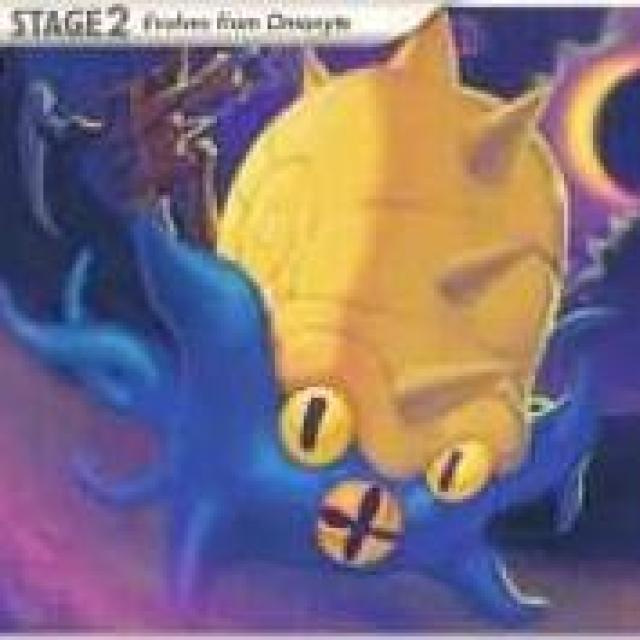Omastar: (123, 53, 581, 612)
